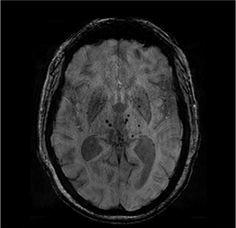Normal_Brain: (4, 4, 236, 228)
